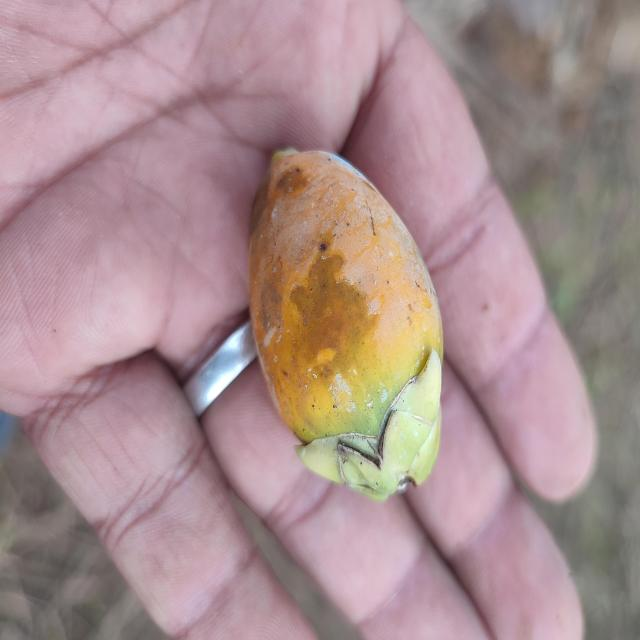good: (248, 149, 445, 504)
